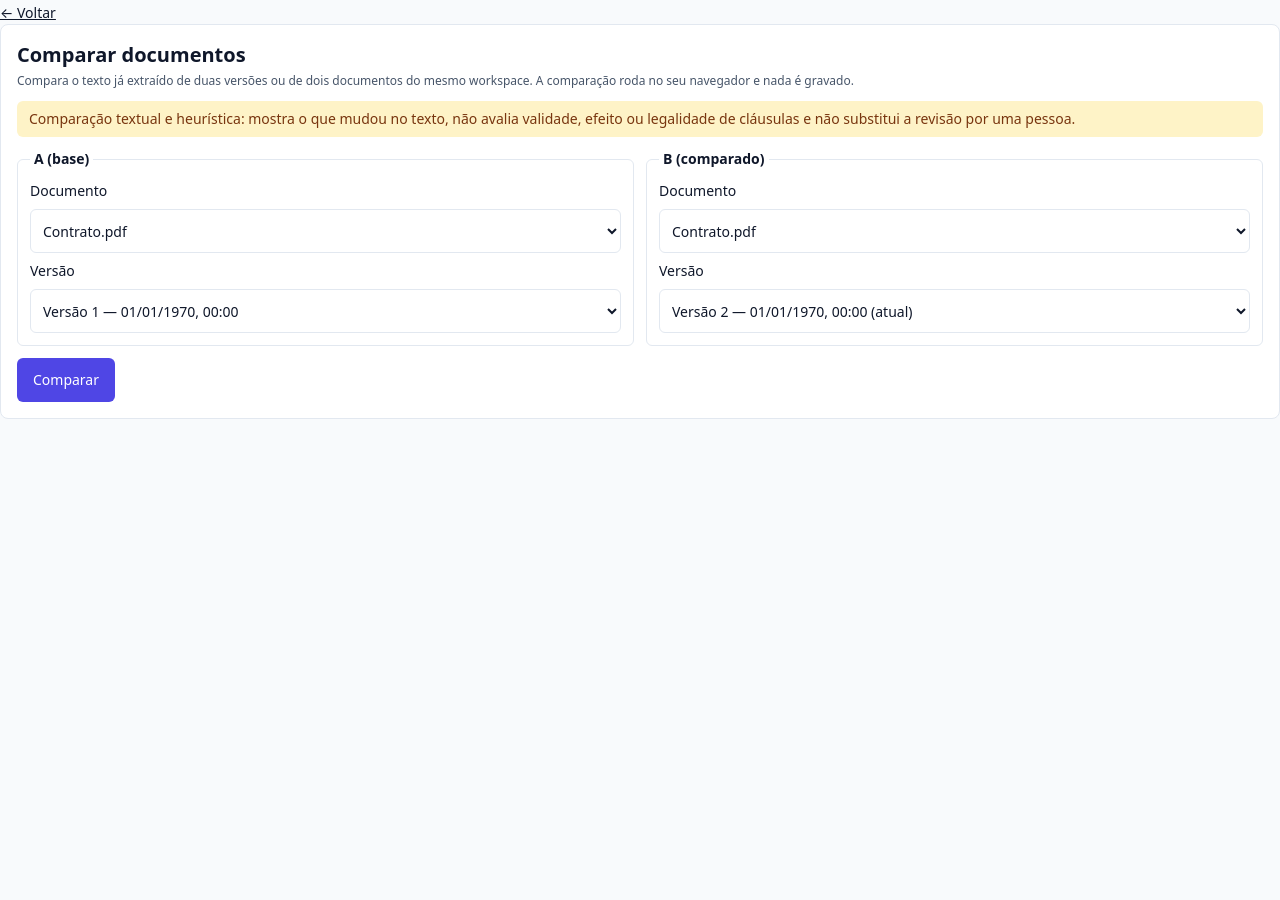
Test: ComparePage › compara duas versões e mostra texto, campos e cláusulas
Click the button "Comparar".
click(66, 380)  # box [17,358,115,402]
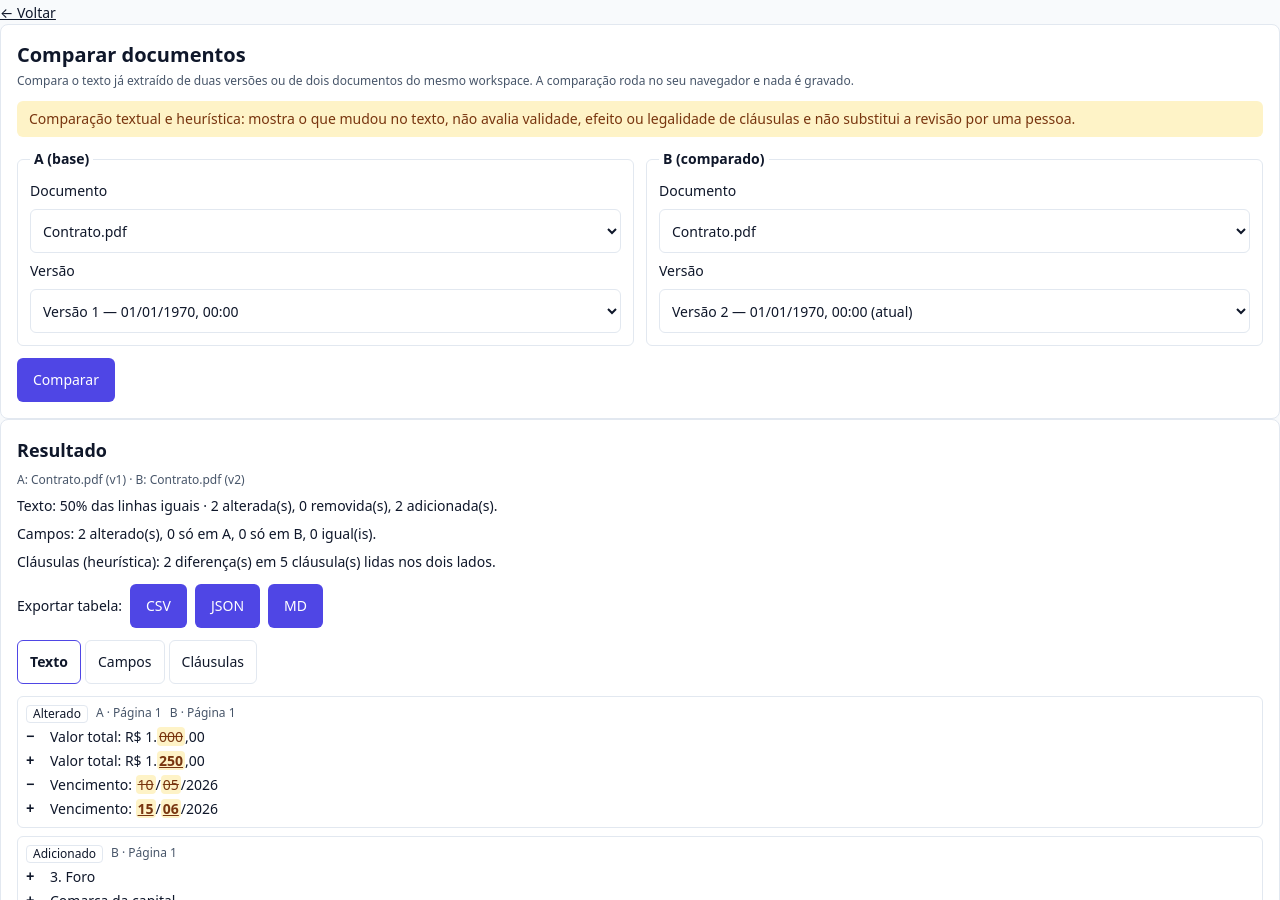
Expected: the text "linhas iguais" is shown, [17,496,497,515]
Expected: the text named "linha em A" is shown, [26,729,34,745]
Click the tab "Campos".
click(125, 662)  # box [85,640,165,684]
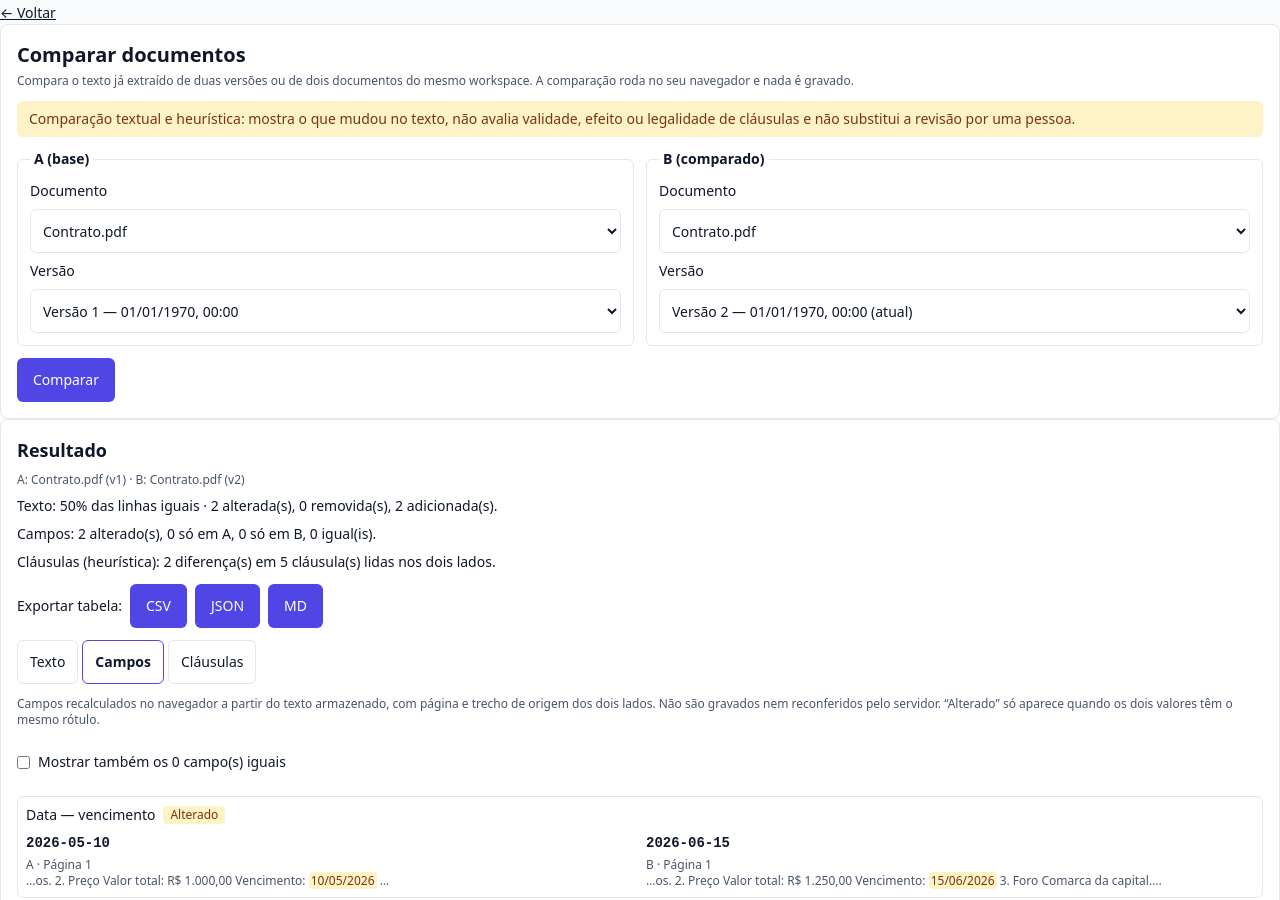
Expected: the text "2026-06-15" is shown, [646,835,730,851]
Click the tab "Cláusulas".
click(212, 662)  # box [168,640,256,684]
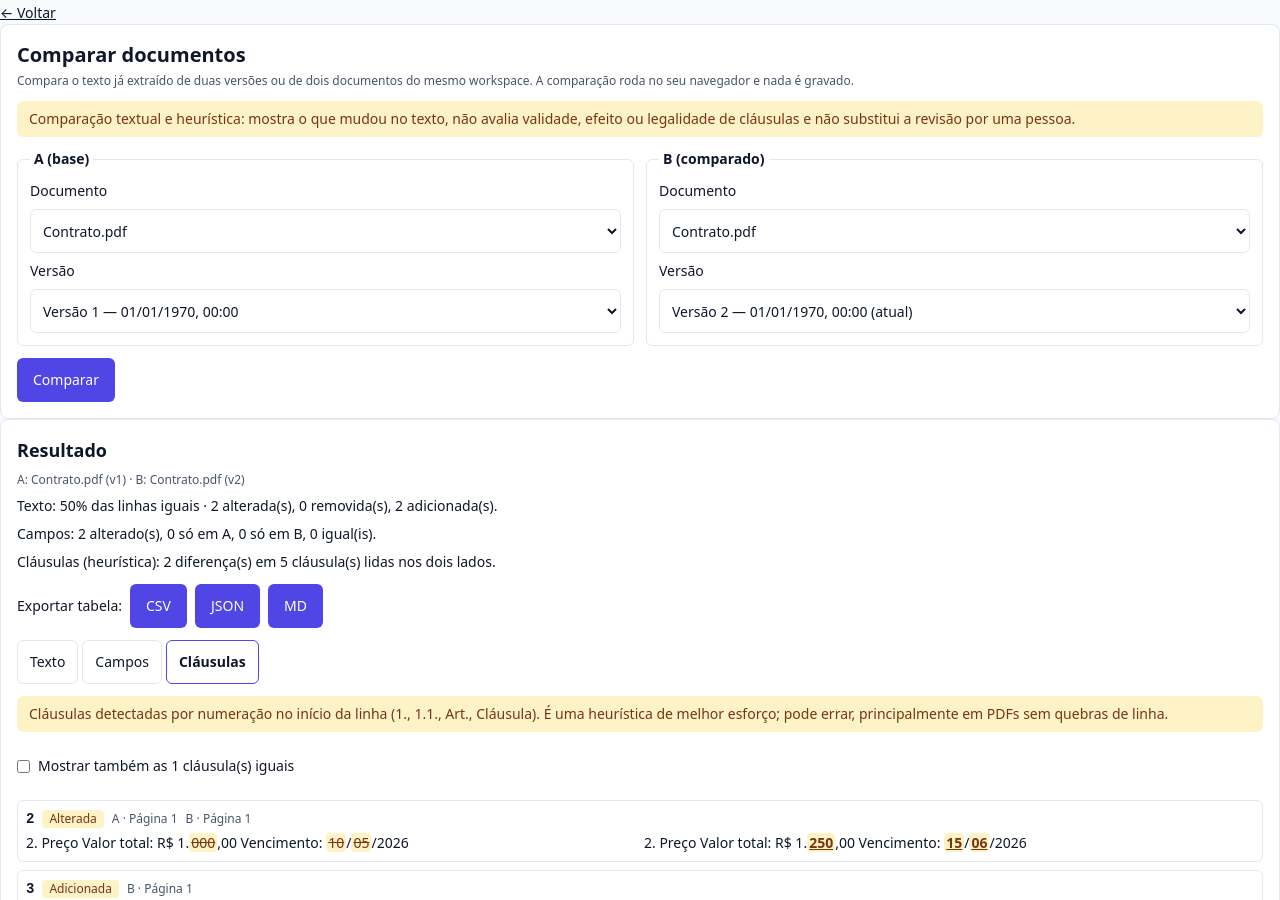
Expected: the text "Adicionada" is shown, [42,880,119,898]
Expected: the text "Alterada" is shown, [42,810,104,828]
